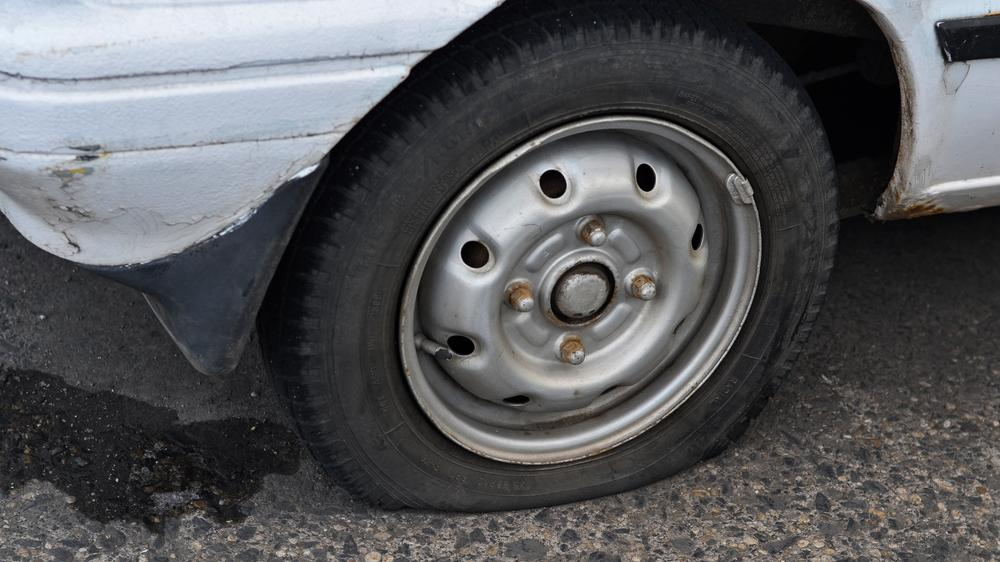tire flat: (259, 0, 838, 519)
